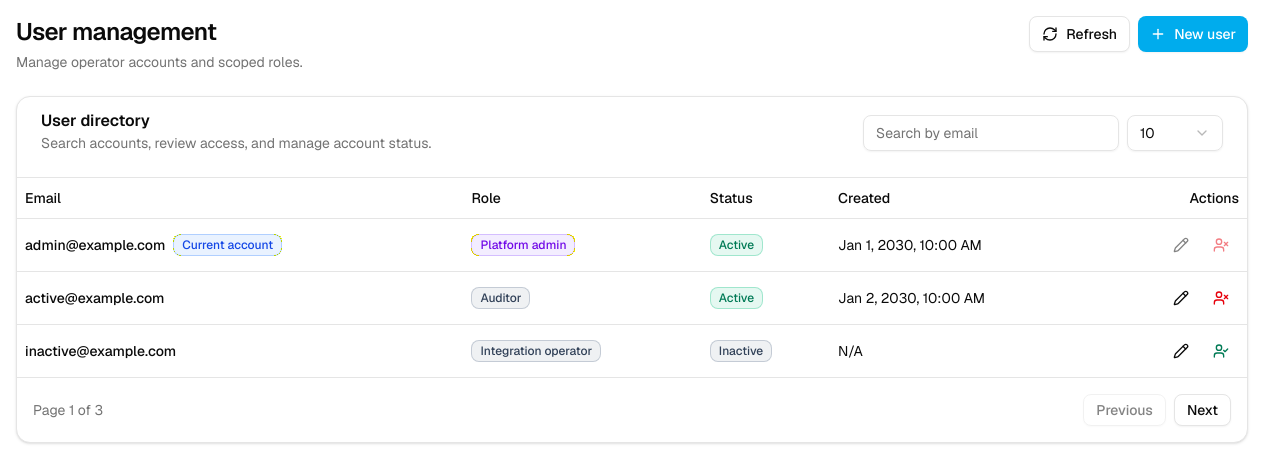
it: does not reset pagination when the initial empty search debounce settles
Click the button with aria-label "Next page".
click(1202, 410)  # box [1174,394,1231,426]
Wait 400 ms
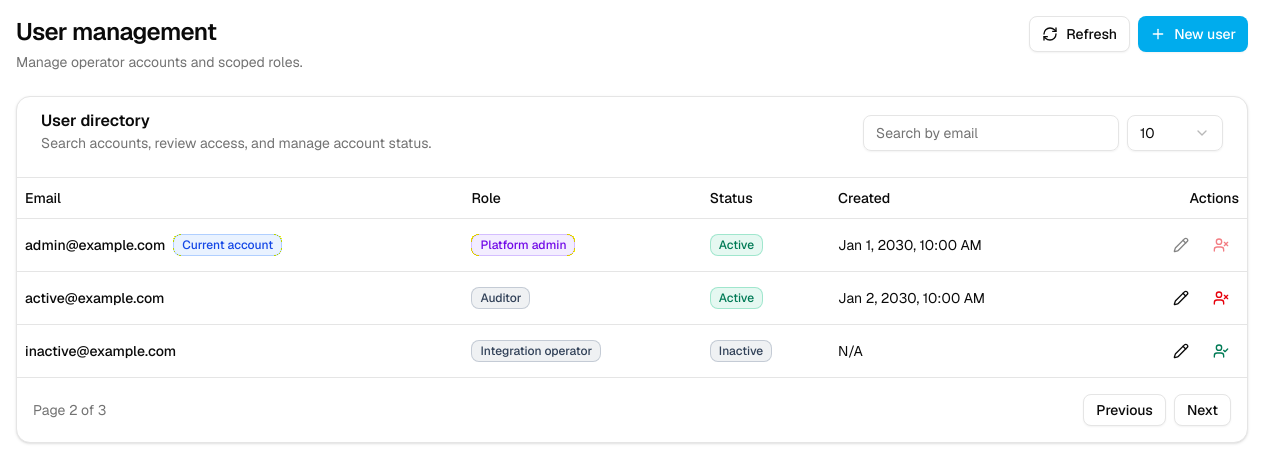
Result: the text "Page 2 of 3" is shown at [33,400,106,420]
